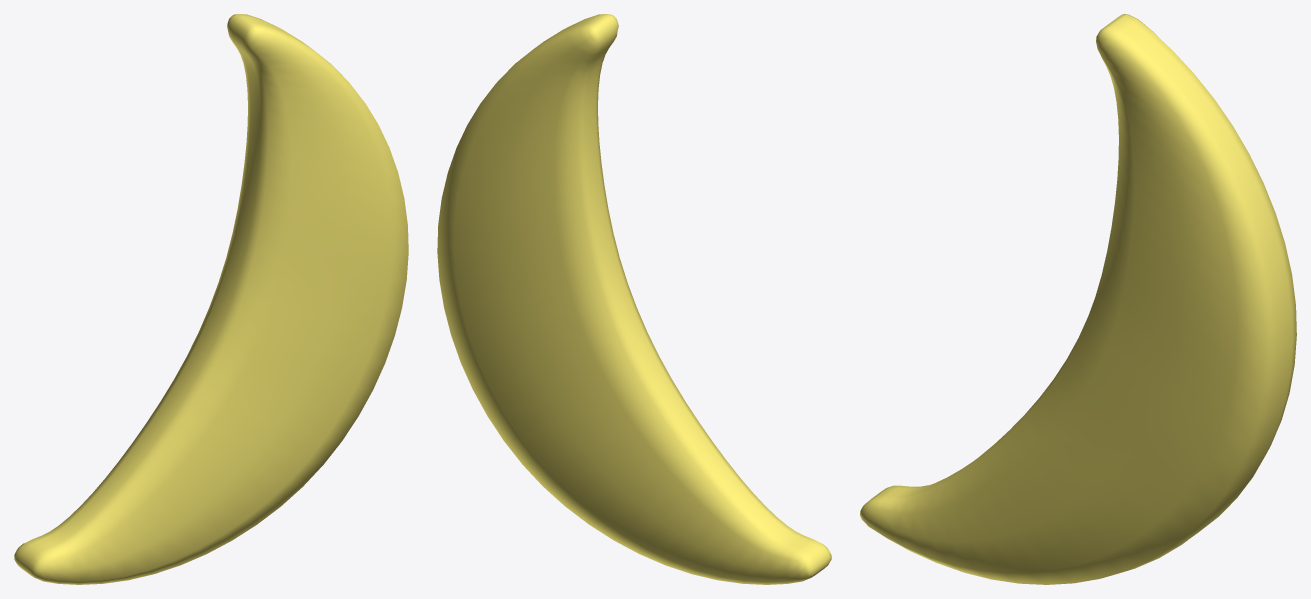
The model's file is crescent_moon.gltf.
3 views of the same model, side by side, from view 1: azimuth 30°, elevation 25°; view 2: azimuth 150°, elevation 25°; view 3: azimuth 330°, elevation 25° (orthographic). The views are drawn at different scales.
Visible parts, largest first — view 1: Circle.2104; view 2: Circle.2104; view 3: Circle.2104.
Part boxes in pixels (x1,y1,x2,y2): Circle.2104: (14, 14, 408, 584); Circle.2104: (437, 14, 831, 584); Circle.2104: (860, 14, 1296, 584).
Bounding box in the file's own units: 1.78 × 2.38 × 0.3212.
Materials: 1 (1 with a texture image).
